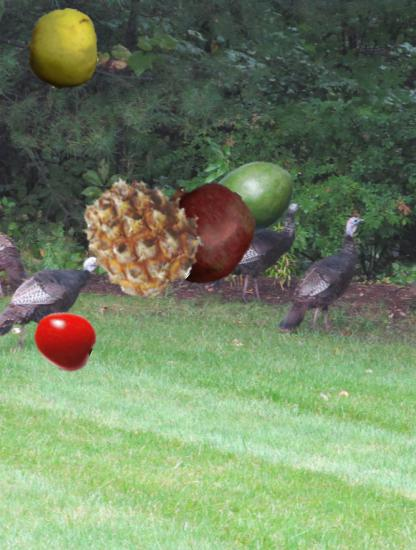Apple: (24, 8, 105, 89)
Mango: (208, 154, 297, 243)
Pineapple: (78, 175, 203, 300)
Pomegranate: (152, 181, 256, 285)
Tomato: (33, 309, 95, 371)
